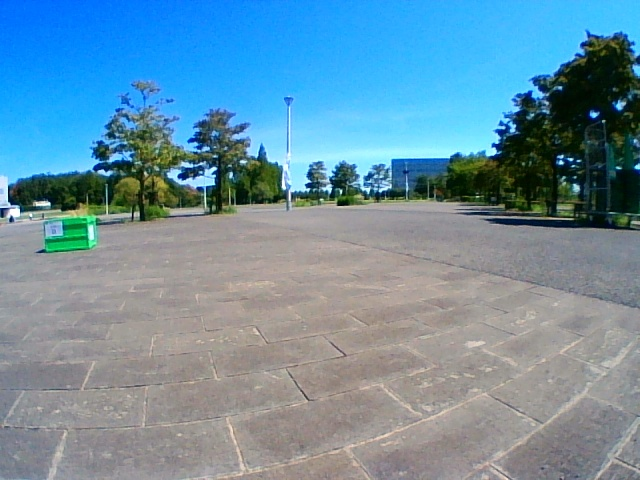green_box: (43, 215, 95, 251)
tag: (46, 222, 62, 236)
